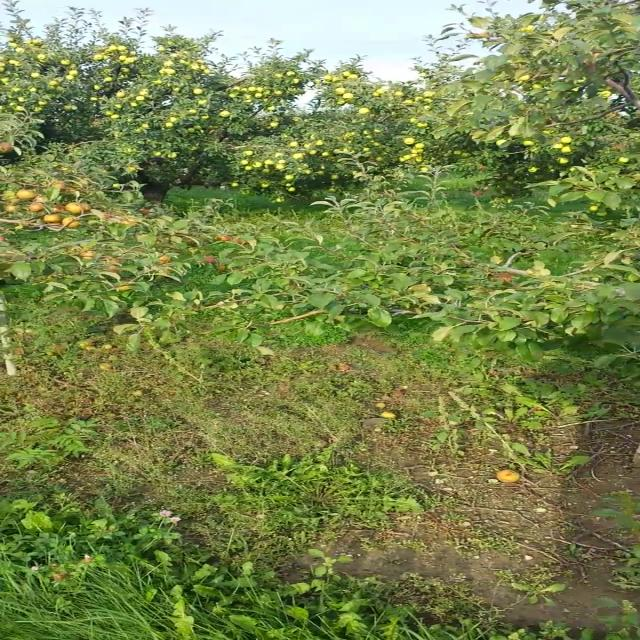apple: (105, 258, 123, 274), (495, 272, 514, 286), (65, 203, 86, 213), (15, 190, 36, 200), (62, 217, 81, 227), (28, 204, 46, 212), (81, 251, 99, 259), (52, 205, 70, 213), (42, 214, 59, 222), (6, 205, 22, 213), (33, 195, 48, 203), (139, 208, 153, 216), (216, 236, 232, 242), (203, 257, 217, 263), (158, 256, 168, 264), (1, 142, 10, 150)
